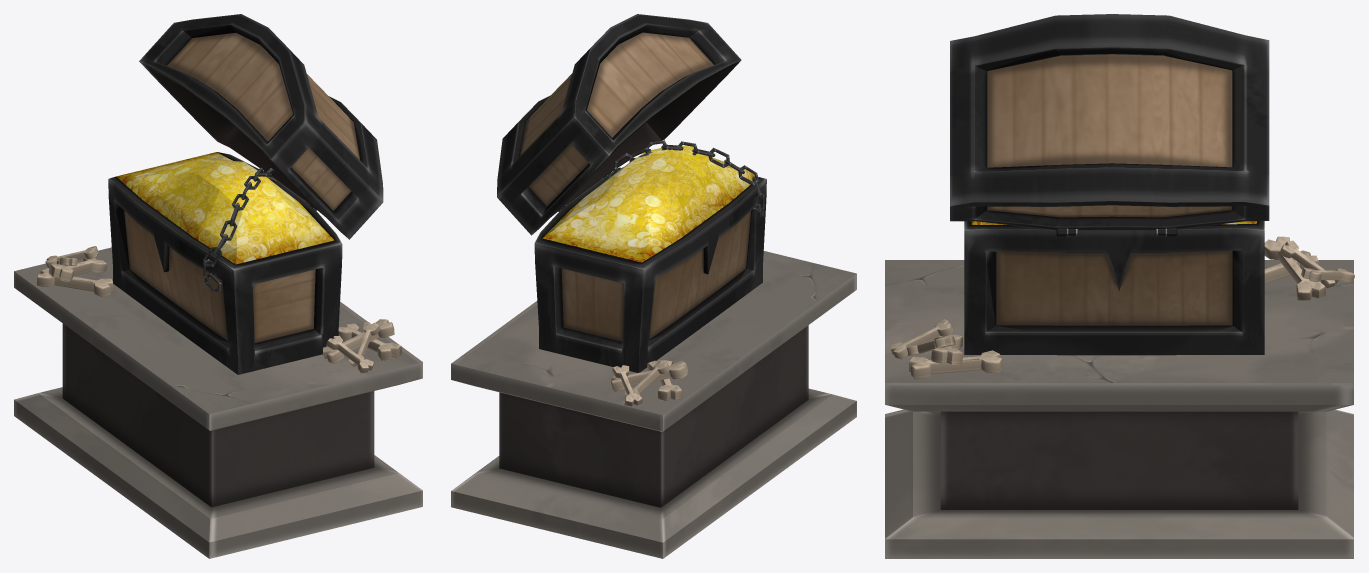
File: SM_bossChest.fbx
3 views of the same model, side by side, from view 1: azimuth 30°, elevation 25°; view 2: azimuth 150°, elevation 25°; view 3: azimuth 270°, elevation 25° (orthographic). The views are drawn at different scales.
Visible parts, largest first — view 1: SM_bossChest; view 2: SM_bossChest; view 3: SM_bossChest.
Part boxes in pixels (x1,y1,x2,y2): SM_bossChest: (14, 14, 422, 558); SM_bossChest: (451, 14, 856, 558); SM_bossChest: (885, 14, 1354, 558).
Bounding box in the file's own units: 3.05 × 5.12 × 4.27.
